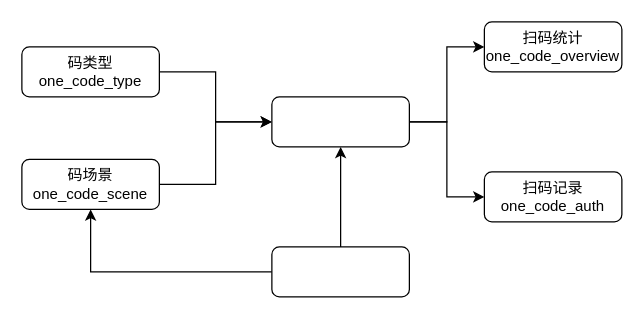
Image size: 644x319. Some labels were removed from this diagram. Each missing label, with the centre of its shape:
一物一码 one_code: pixel 340 121
码组织 one_code_org: pixel 340 271
